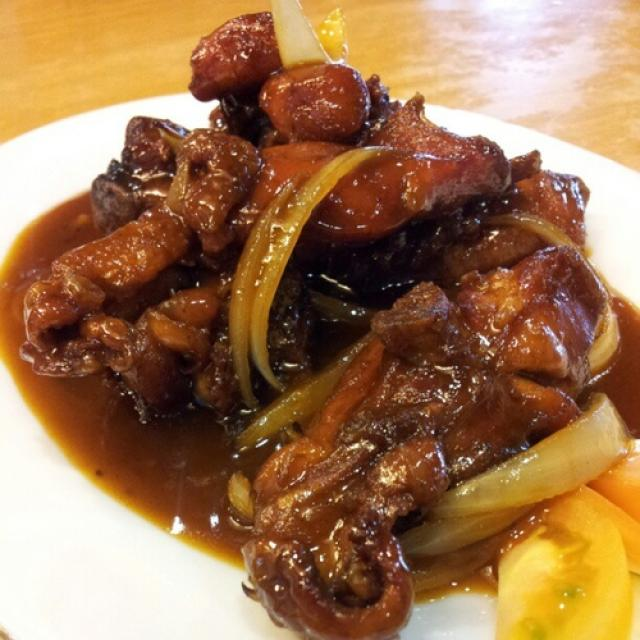鸡肉料理 含炸鸡: (5, 5, 634, 631)
